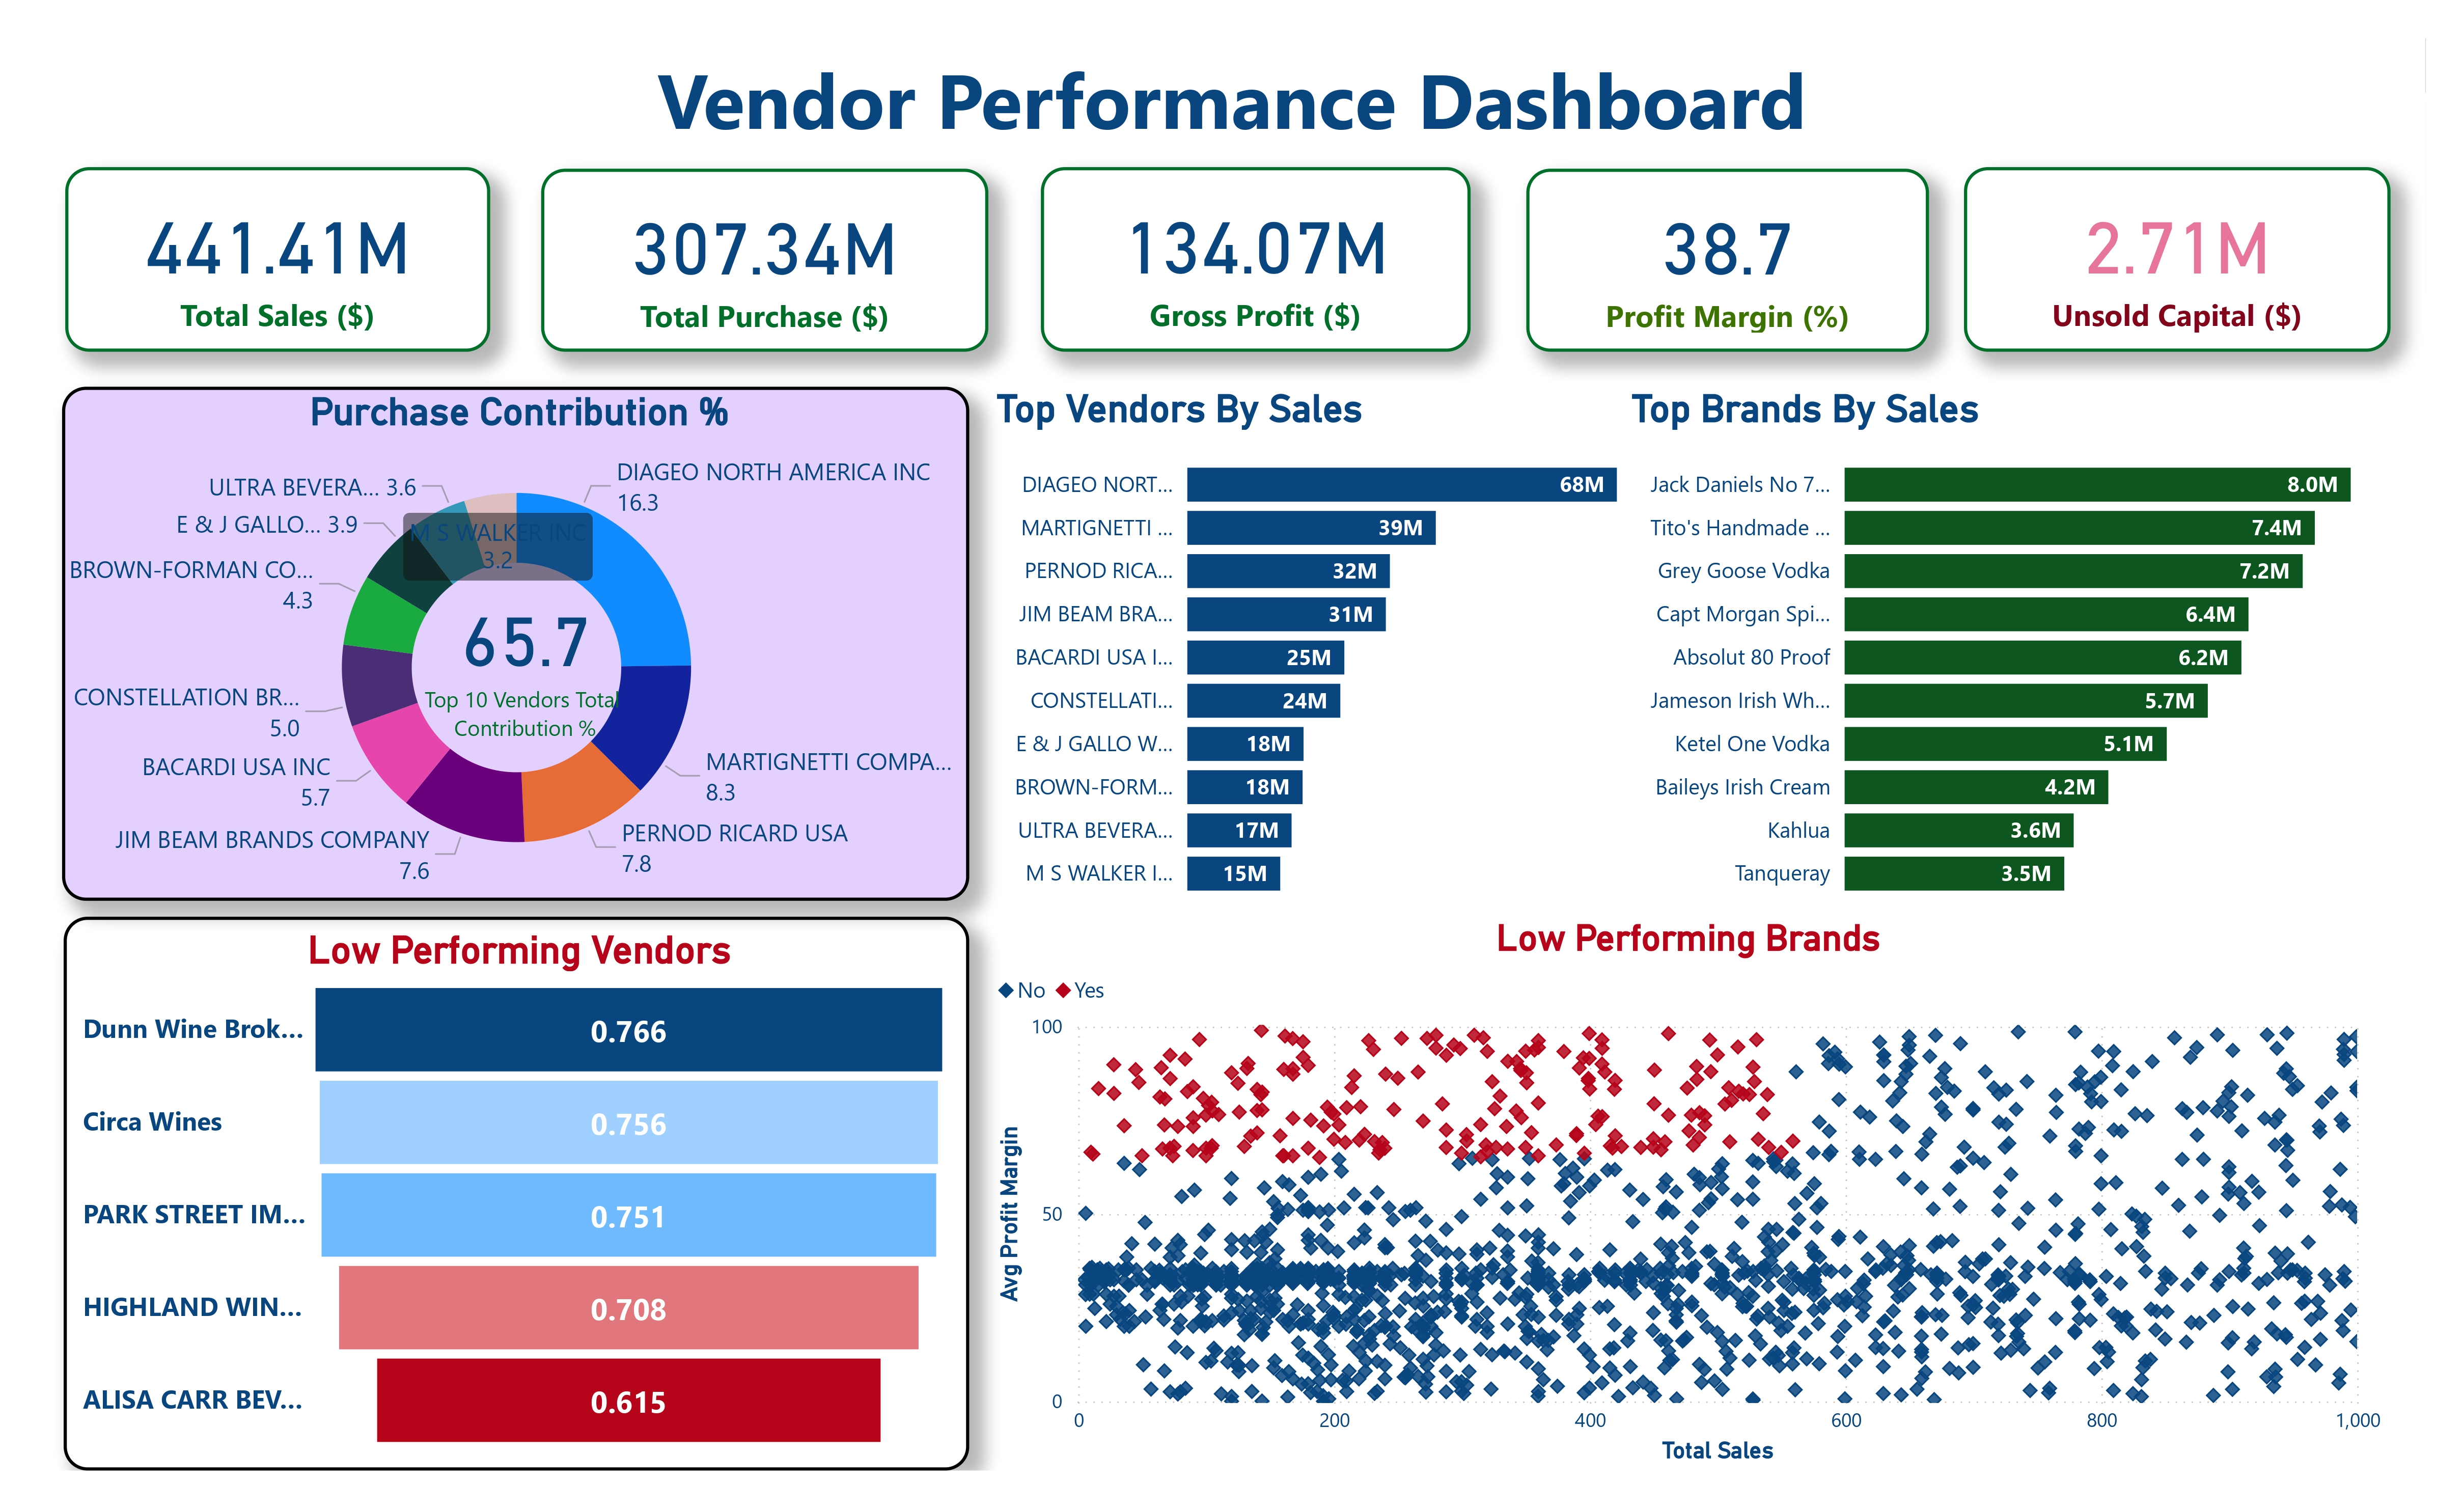

What the dashboard file says about the page in this screenshot:
{"tool":"powerbi","page":{"name":"Page 1","canvas":[1500,900],"ordinal":0},"visuals":[{"type":"card","fields":{"Values":["Sum(vendor_sales_summary.TotalPurchaseDollars)"]},"box":[315.8,82.4,280.9,114.6],"z":0},{"type":"card","fields":{"Values":["Sum(vendor_sales_summary.TotalSalesDollars)"]},"box":[16.8,81,266.9,116],"z":1000},{"type":"card","fields":{"Values":["Sum(vendor_sales_summary.GrossProfit)"]},"box":[630.2,81,269.7,116],"z":2000},{"type":"card","fields":{"Values":["Sum(vendor_sales_summary.ProfitMargin)"]},"box":[934.8,82.4,252.9,114.6],"z":3000},{"type":"card","fields":{"Values":["Sum(vendor_sales_summary.UnsoldCapital)"]},"box":[1210.1,81,268.3,116],"z":4000},{"type":"textbox","box":[0,0,1500,83],"z":5000},{"type":"donutChart","title":"Purchase Contribution % ","fields":{"Category":["PurchaseContribution.VendorName"],"Y":["Sum(PurchaseContribution.PurchaseContribution%)"]},"box":[14.5,219.4,571,322.6],"z":6000},{"type":"card","fields":{"Values":["Sum(PurchaseContribution.PurchaseContribution%)"]},"box":[211.8,266.7,188.2,233.3],"z":7000},{"type":"barChart","title":"Top Vendors By Sales","fields":{"Category":["vendor_sales_summary.VendorName"],"Y":["Sum(vendor_sales_summary.TotalSalesDollars)"]},"box":[597.3,219.2,447.9,332.9],"z":8000},{"type":"barChart","title":"Top Brands By Sales","fields":{"Category":["vendor_sales_summary.Description"],"Y":["Sum(vendor_sales_summary.TotalSalesDollars)"]},"box":[995.9,219.2,504.1,332.9],"z":9000},{"type":"funnel","title":"Low Performing Vendors","fields":{"Category":["LowTurnoverVendor.VendorName"],"Y":["Avg(LowTurnoverVendor.AvgStockTurnOver)"]},"box":[16.1,551.6,569.4,348.4],"z":10000},{"type":"scatterChart","title":"Low Performing Brands","fields":{"X":["Sum(BrandPerformance.TotalSales)"],"Y":["Sum(BrandPerformance.AvgProfitMargin)"],"Series":["BrandPerformance.TargetBrand"],"Category":["BrandPerformance.Description"]},"box":[596.8,551.6,880.6,348.4],"z":11000}]}

Visuals, with their boxes on the page's 1500x900 design canvas (x1, y1, x2, y2). These are canvas units, not pixel positions in the 2464x1509 screenshot, which may show the page scaled, cropped or inside an application window:
card - Sum(vendor_sales_summary.TotalPurchaseDollars): rect(316, 82, 597, 197)
card - Sum(vendor_sales_summary.TotalSalesDollars): rect(17, 81, 284, 197)
card - Sum(vendor_sales_summary.GrossProfit): rect(630, 81, 900, 197)
card - Sum(vendor_sales_summary.ProfitMargin): rect(935, 82, 1188, 197)
card - Sum(vendor_sales_summary.UnsoldCapital): rect(1210, 81, 1478, 197)
textbox: rect(0, 0, 1500, 83)
"Purchase Contribution % " donutChart: rect(14, 219, 586, 542)
card - Sum(PurchaseContribution.PurchaseContribution%): rect(212, 267, 400, 500)
"Top Vendors By Sales" barChart: rect(597, 219, 1045, 552)
"Top Brands By Sales" barChart: rect(996, 219, 1500, 552)
"Low Performing Vendors" funnel: rect(16, 552, 586, 900)
"Low Performing Brands" scatterChart: rect(597, 552, 1477, 900)
